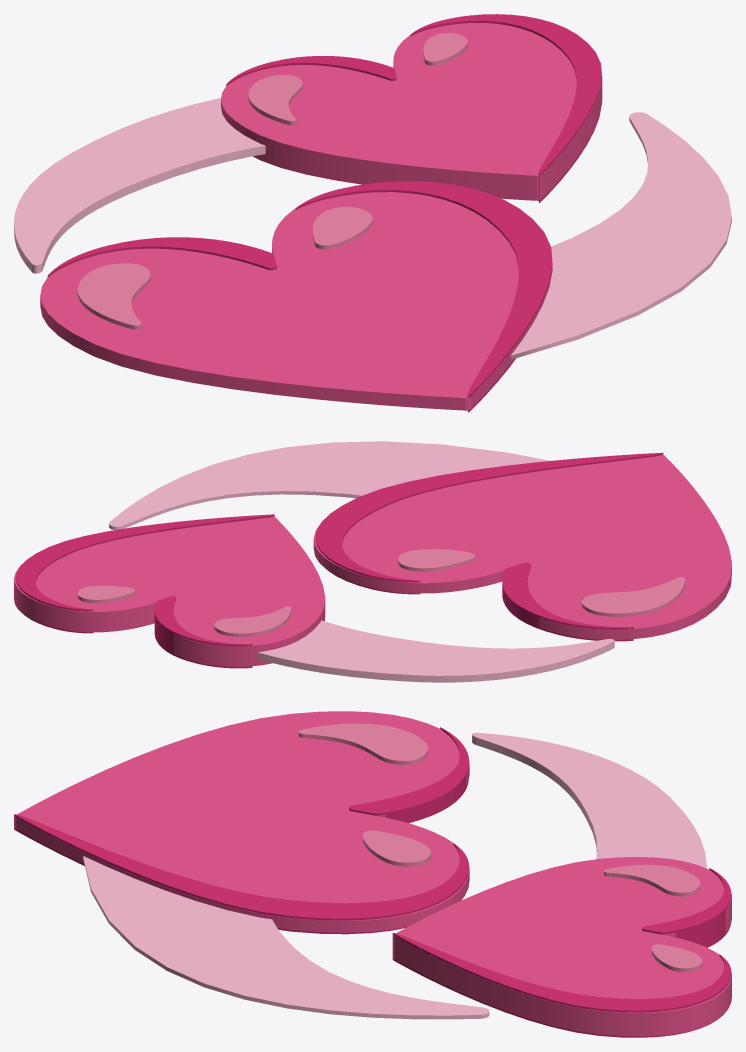
File: emoji_u1f49e.glb
3 renders of one model, top to bottom at view 1: azimuth 30°, elevation 25°; view 2: azimuth 150°, elevation 25°; view 3: azimuth 270°, elevation 25°, orthographic. The views are drawn at different scales.
Visible parts, largest first — view 1: emoji_u1f49e; view 2: emoji_u1f49e; view 3: emoji_u1f49e.
Boxes of the visible parts, x1,y1,x2,y2 form: emoji_u1f49e: (14, 14, 731, 412); emoji_u1f49e: (14, 441, 731, 682); emoji_u1f49e: (14, 711, 731, 1037).
Bounding box in the file's own units: 0.034 × 0.0016 × 0.0336.
